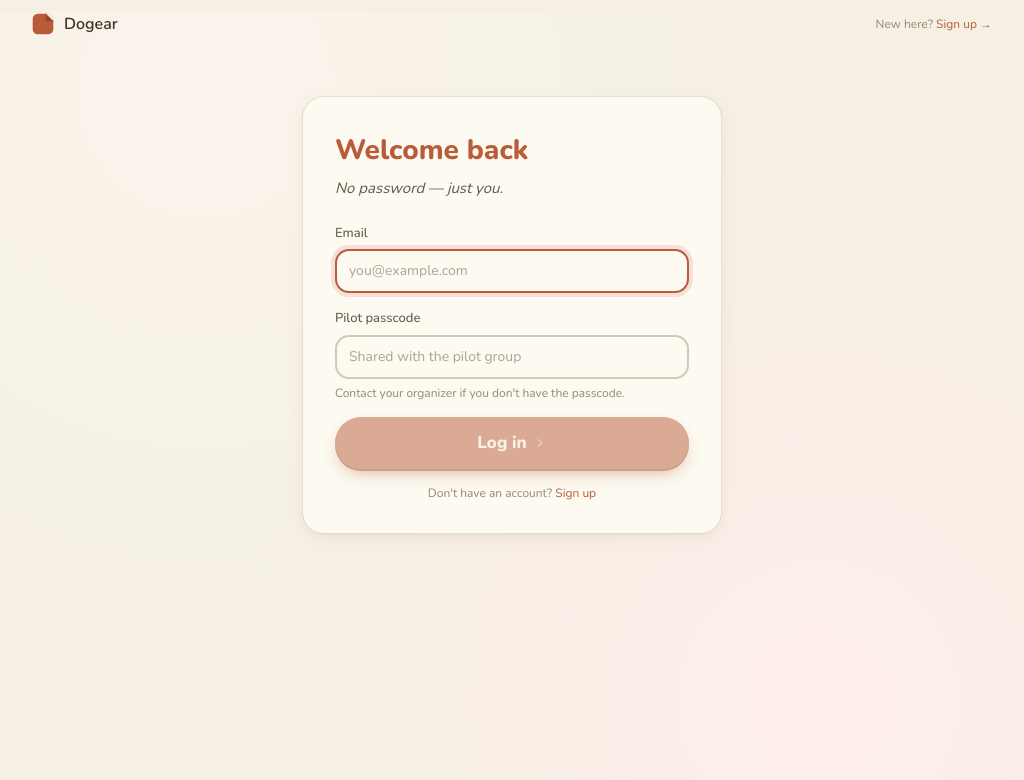
Test case: LoginPage — email format hint › shows the email-format error once the user types an invalid email
Type "not-an-email" into the field labelled "Email" at coordinates (512, 271), box [335,249,689,293]
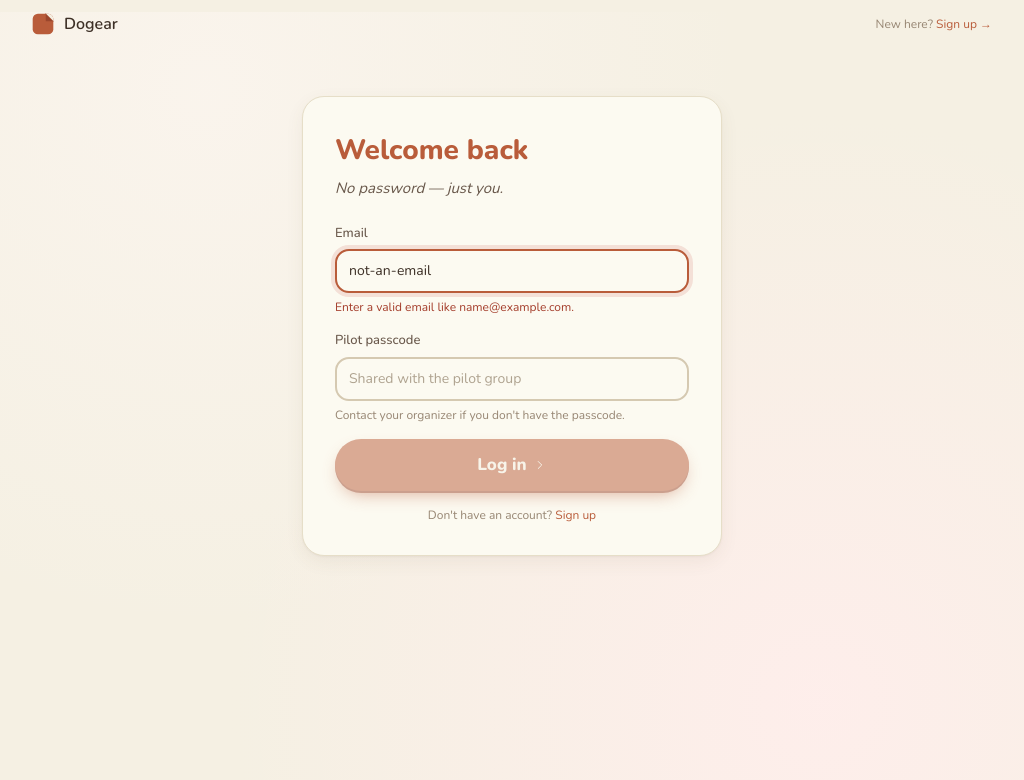
Result: the text "Enter a valid email like name@example.com." is shown at [335,299,574,315]
